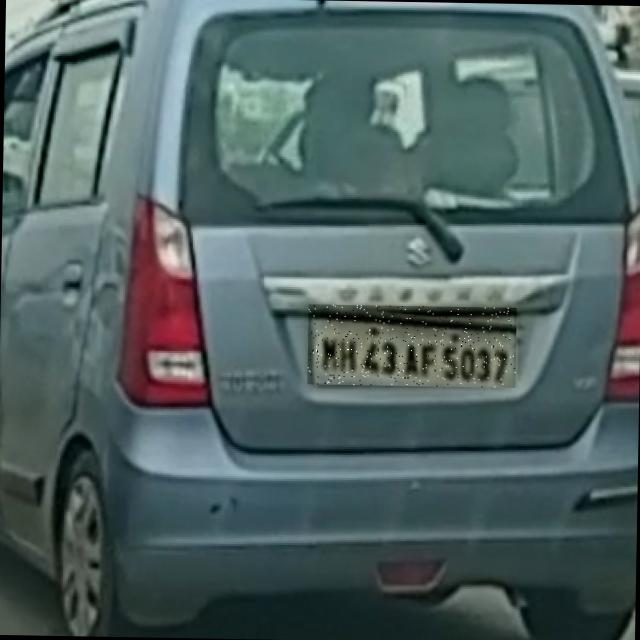Plate: (308, 305, 517, 389)
